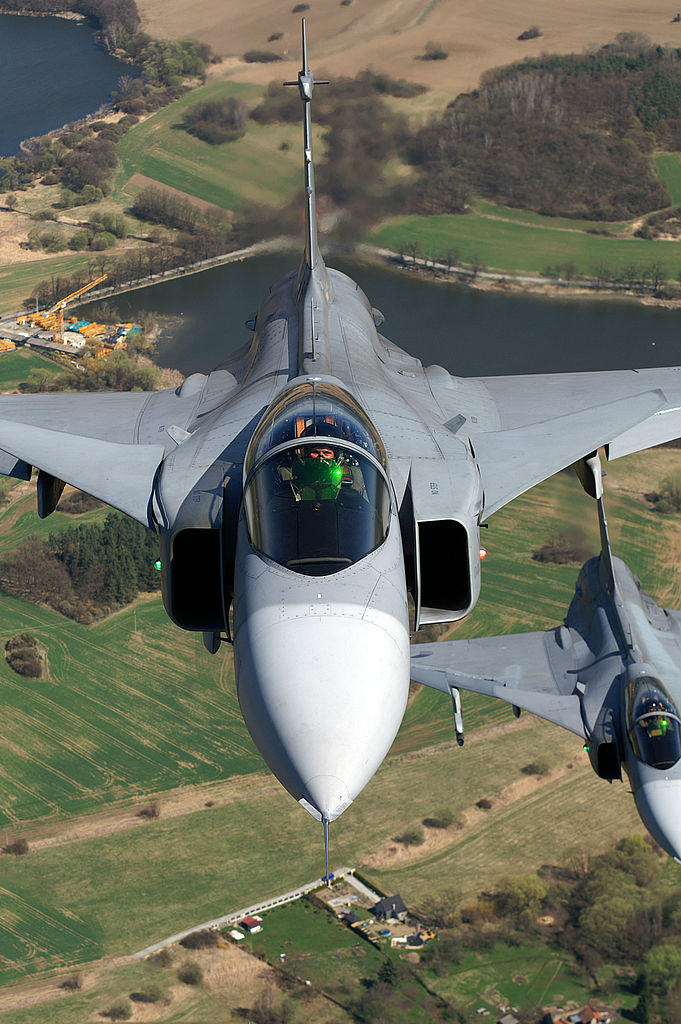JAS39: (1, 17, 681, 886), (410, 469, 681, 866)
